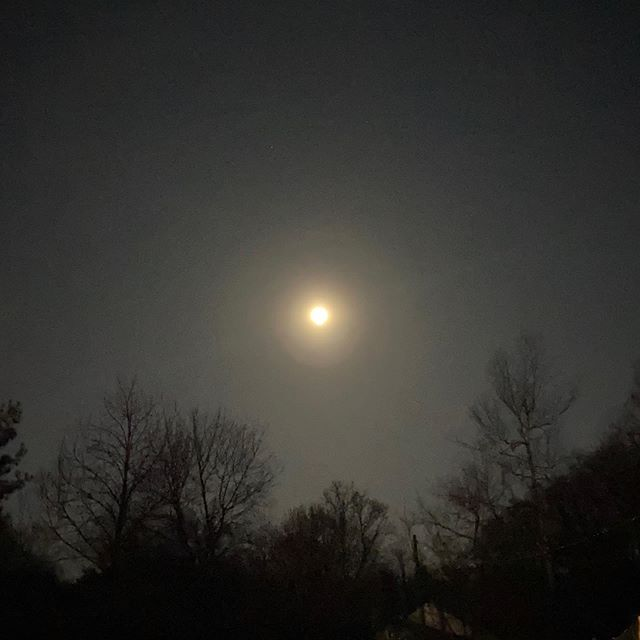sky: (1, 1, 622, 448)
sun: (304, 298, 336, 335)
vegetation: (29, 439, 640, 640)
